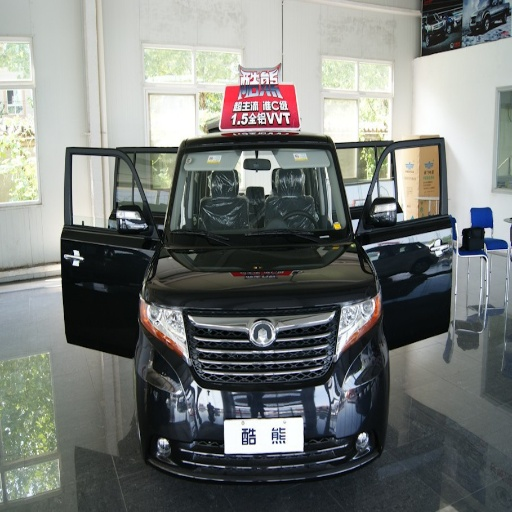front_bumper: (141, 305, 387, 481)
front_right_light: (140, 288, 186, 351)
